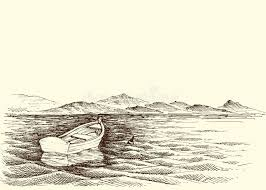boat: (41, 115, 106, 156)
